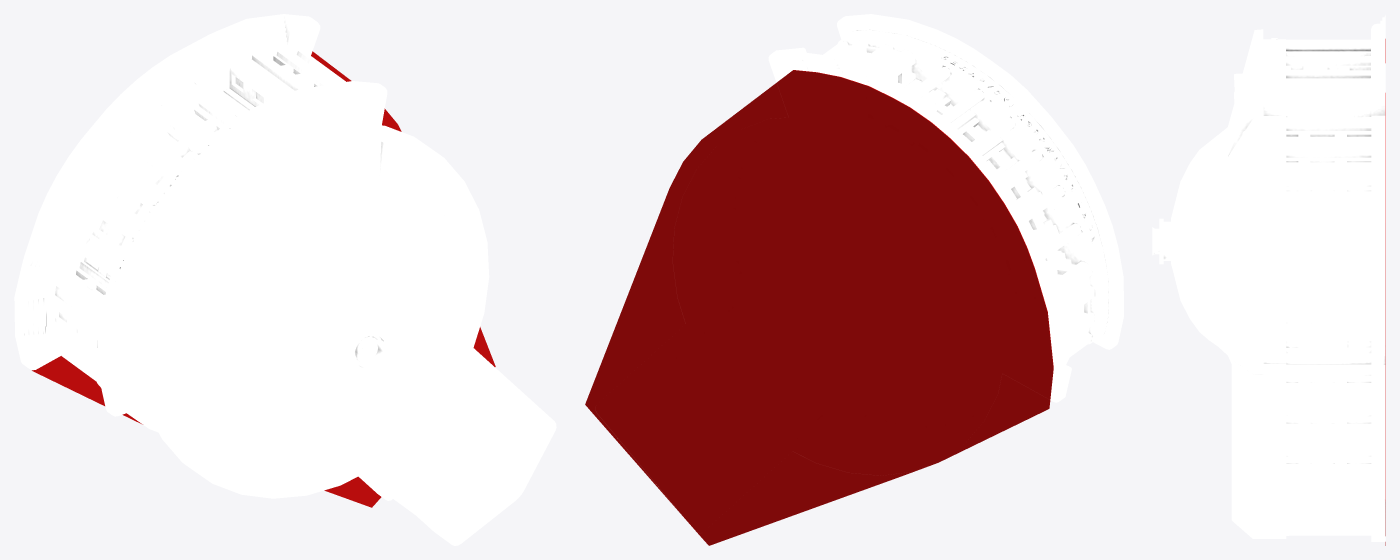
File: Belarusian_State_Circus.gltf
The picture shows the model from 3 angles, left to right: view 1: azimuth 30°, elevation 25°; view 2: azimuth 150°, elevation 25°; view 3: azimuth 270°, elevation 25°; orthographic projection. The views are drawn at different scales.
Visible parts, largest first — view 1: BLR_25326656_Belarusian_State_Circus, mapbox_footprint; view 2: mapbox_footprint, BLR_25326656_Belarusian_State_Circus; view 3: BLR_25326656_Belarusian_State_Circus, mapbox_footprint.
Part boxes in pixels (x1,y1,x2,y2): BLR_25326656_Belarusian_State_Circus: (14,14,556,545); mapbox_footprint: (32,51,495,507); mapbox_footprint: (585,70,1053,545); BLR_25326656_Belarusian_State_Circus: (656,14,1123,531); BLR_25326656_Belarusian_State_Circus: (1152,15,1385,541); mapbox_footprint: (1385,39,1385,545).
Bounding box in the file's own units: 78.51 × 80.99 × 37.29.
